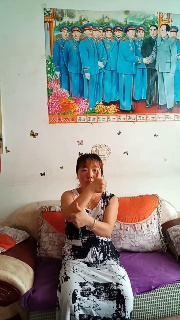hand: (70, 201, 88, 228), (92, 169, 106, 193)
